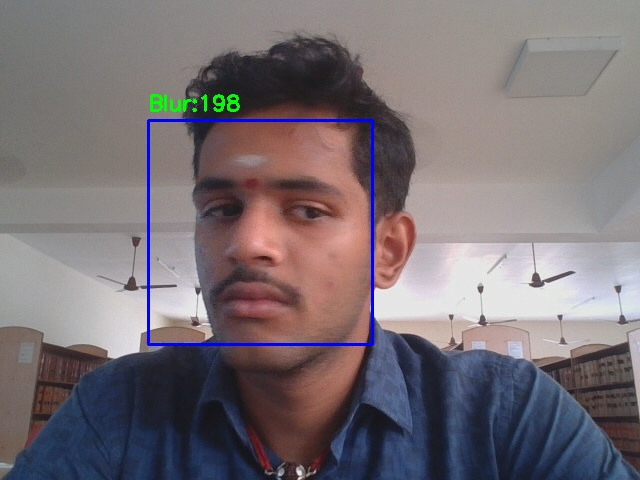real: (148, 120, 372, 344)
